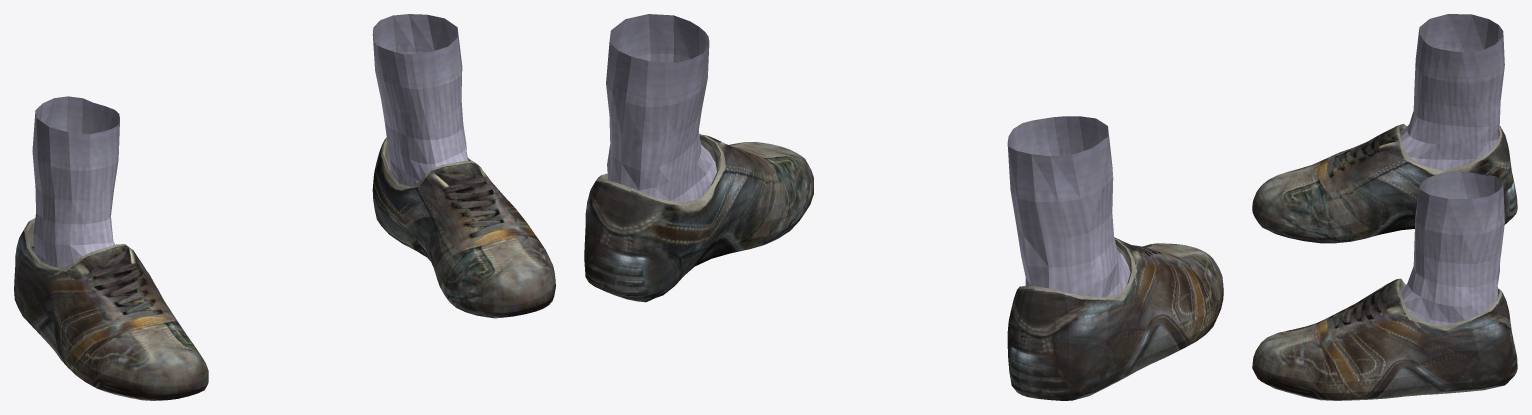
File: mhw_shoes02.glb
3 views of the same model, side by side, from view 1: azimuth 30°, elevation 25°; view 2: azimuth 150°, elevation 25°; view 3: azimuth 270°, elevation 25° (orthographic). The views are drawn at different scales.
Parts seen in each view (by area): view 1: mhw_shoes02; view 2: mhw_shoes02; view 3: mhw_shoes02.
Boxes of the visible parts, <box> form: mhw_shoes02: <box>14,14,555,400</box>; mhw_shoes02: <box>584,14,1223,400</box>; mhw_shoes02: <box>1252,14,1517,400</box>.
Size of the model in its own units: 0.5498 by 0.2455 by 0.2942.
1 material, 1 textured.
